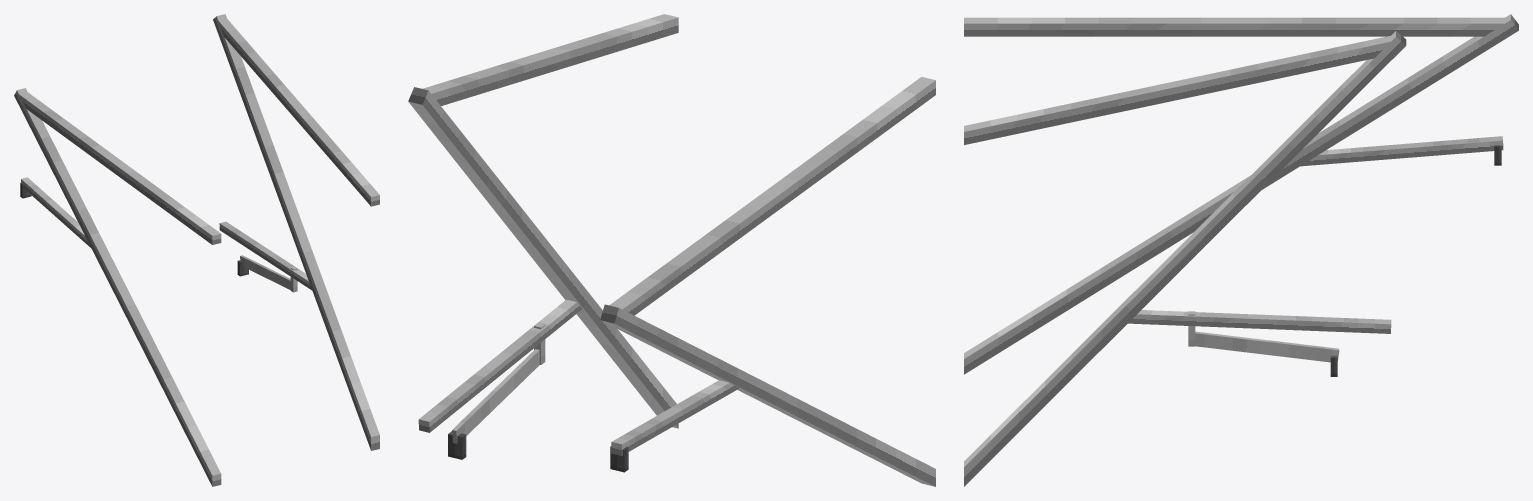
The model's file is cantilever_inner_4px.obj.
The picture shows the model from 3 angles, left to right: view 1: azimuth 30°, elevation 25°; view 2: azimuth 150°, elevation 25°; view 3: azimuth 270°, elevation 25°; orthographic projection. The views are drawn at different scales.
Parts seen in each view (by area): view 1: 40da7256-f349-4955-b9f0-2292e7c1e269, a441ca16-43a1-4b7b-bcc7-b3f094be03bb, c7c43221-c44c-41a7-a82a-c41a87d4813a, 2906ddcc-63c3-483c-b8f9-7b8c4dbfd0a7, 4951e5a0-850b-4ee9-b8a8-e1592ff13833, 87876a80-1bdc-4b3c-a5e9-5e6a74a0caa7, 14abfc6c-181f-4302-91cb-f46f65d03474; view 2: 40da7256-f349-4955-b9f0-2292e7c1e269, c7c43221-c44c-41a7-a82a-c41a87d4813a, a441ca16-43a1-4b7b-bcc7-b3f094be03bb, 2906ddcc-63c3-483c-b8f9-7b8c4dbfd0a7, 4951e5a0-850b-4ee9-b8a8-e1592ff13833, 87876a80-1bdc-4b3c-a5e9-5e6a74a0caa7, 14abfc6c-181f-4302-91cb-f46f65d03474; view 3: 40da7256-f349-4955-b9f0-2292e7c1e269, a441ca16-43a1-4b7b-bcc7-b3f094be03bb, c7c43221-c44c-41a7-a82a-c41a87d4813a, 2906ddcc-63c3-483c-b8f9-7b8c4dbfd0a7, 4951e5a0-850b-4ee9-b8a8-e1592ff13833, 87876a80-1bdc-4b3c-a5e9-5e6a74a0caa7, 14abfc6c-181f-4302-91cb-f46f65d03474.
Part boxes in pixels (left/top/right/bottom): 40da7256-f349-4955-b9f0-2292e7c1e269: left=213, top=14, right=379, bottom=450; a441ca16-43a1-4b7b-bcc7-b3f094be03bb: left=14, top=88, right=221, bottom=486; c7c43221-c44c-41a7-a82a-c41a87d4813a: left=19, top=92, right=221, bottom=244; 2906ddcc-63c3-483c-b8f9-7b8c4dbfd0a7: left=218, top=19, right=379, bottom=206; 4951e5a0-850b-4ee9-b8a8-e1592ff13833: left=219, top=221, right=311, bottom=290; 87876a80-1bdc-4b3c-a5e9-5e6a74a0caa7: left=21, top=177, right=91, bottom=248; 14abfc6c-181f-4302-91cb-f46f65d03474: left=240, top=255, right=290, bottom=289; 40da7256-f349-4955-b9f0-2292e7c1e269: left=408, top=87, right=678, bottom=428; c7c43221-c44c-41a7-a82a-c41a87d4813a: left=609, top=76, right=935, bottom=315; a441ca16-43a1-4b7b-bcc7-b3f094be03bb: left=600, top=304, right=935, bottom=486; 2906ddcc-63c3-483c-b8f9-7b8c4dbfd0a7: left=422, top=14, right=678, bottom=105; 4951e5a0-850b-4ee9-b8a8-e1592ff13833: left=418, top=299, right=581, bottom=432; 87876a80-1bdc-4b3c-a5e9-5e6a74a0caa7: left=611, top=380, right=739, bottom=455; 14abfc6c-181f-4302-91cb-f46f65d03474: left=452, top=349, right=539, bottom=443; 40da7256-f349-4955-b9f0-2292e7c1e269: left=964, top=31, right=1406, bottom=486; a441ca16-43a1-4b7b-bcc7-b3f094be03bb: left=964, top=14, right=1518, bottom=374; c7c43221-c44c-41a7-a82a-c41a87d4813a: left=964, top=17, right=1504, bottom=36; 2906ddcc-63c3-483c-b8f9-7b8c4dbfd0a7: left=964, top=35, right=1390, bottom=144; 4951e5a0-850b-4ee9-b8a8-e1592ff13833: left=1128, top=310, right=1391, bottom=333; 87876a80-1bdc-4b3c-a5e9-5e6a74a0caa7: left=1300, top=136, right=1503, bottom=166; 14abfc6c-181f-4302-91cb-f46f65d03474: left=1195, top=331, right=1339, bottom=362.
Size of the model in its own units: 1.19 by 2.18 by 2.44.
